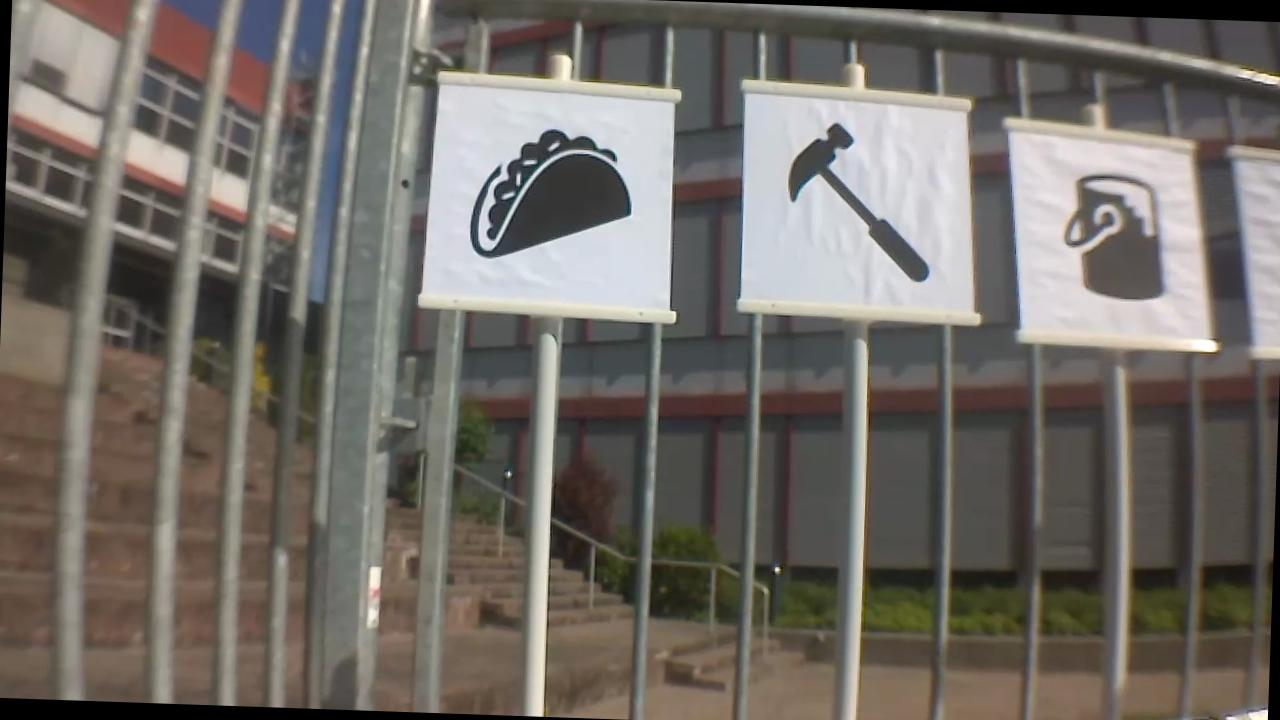bucket: (1055, 159, 1165, 302)
hammer: (772, 124, 947, 283)
taco: (455, 111, 649, 266)
